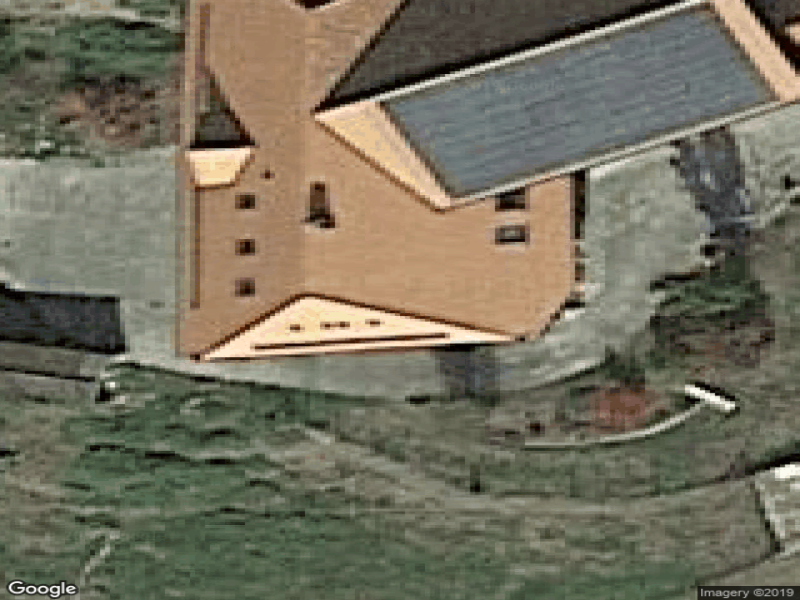pv: (383, 5, 778, 200)
